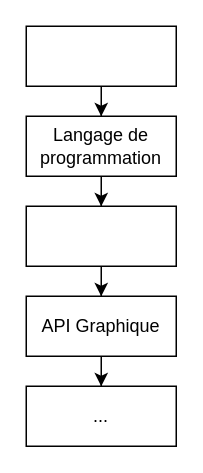
The diagram is 203 pixels wide and 473 high, and some of its shapes have lost their labels. Each missing label, with the box of its shape:
Gestionnaire de fenêtre: (25, 205, 176, 266)
OS: (25, 25, 176, 86)
